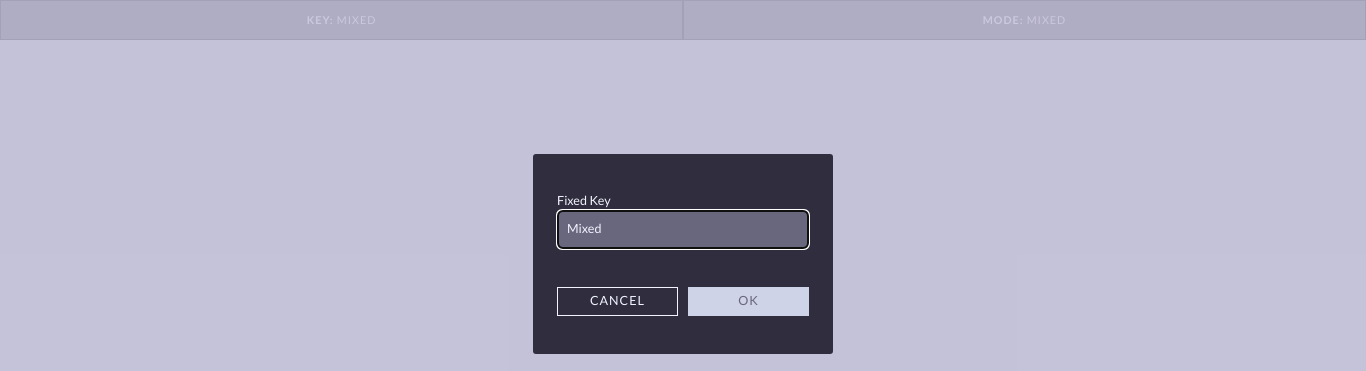
Modal › renders the key selector when modalState=0 and fixes the selected key
Expected: the text "Fixed Key" is shown, [557,192,611,208]
Select "G" in the dropdown titled "key" at (683,230), box [557,210,809,249]
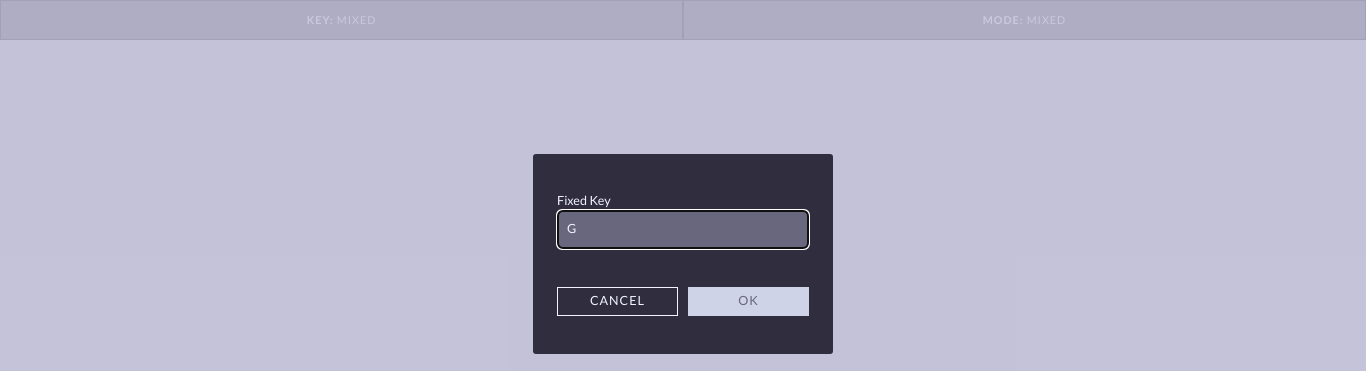
Click the button "OK" at (748,301), box [688,287,809,316]
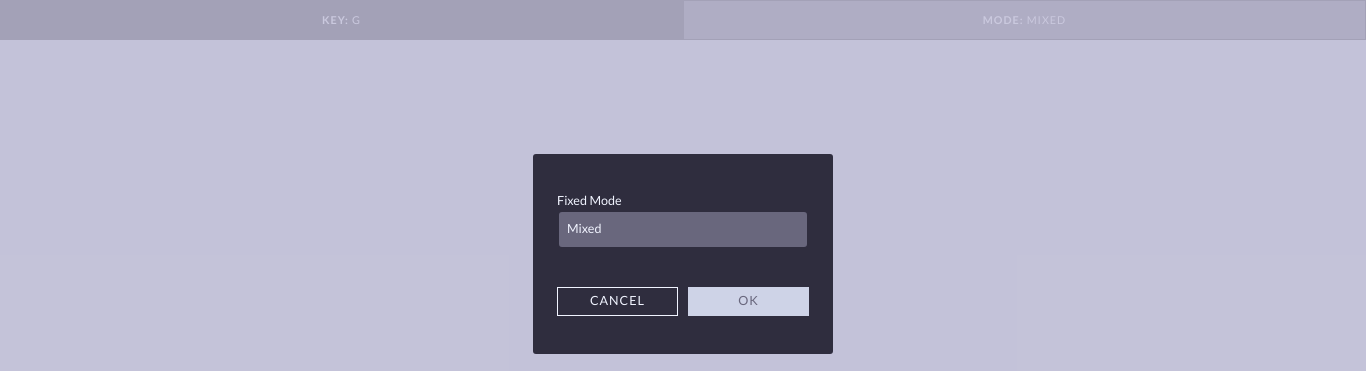
Result: the button "Key: G" is shown at [0,0,683,40]
